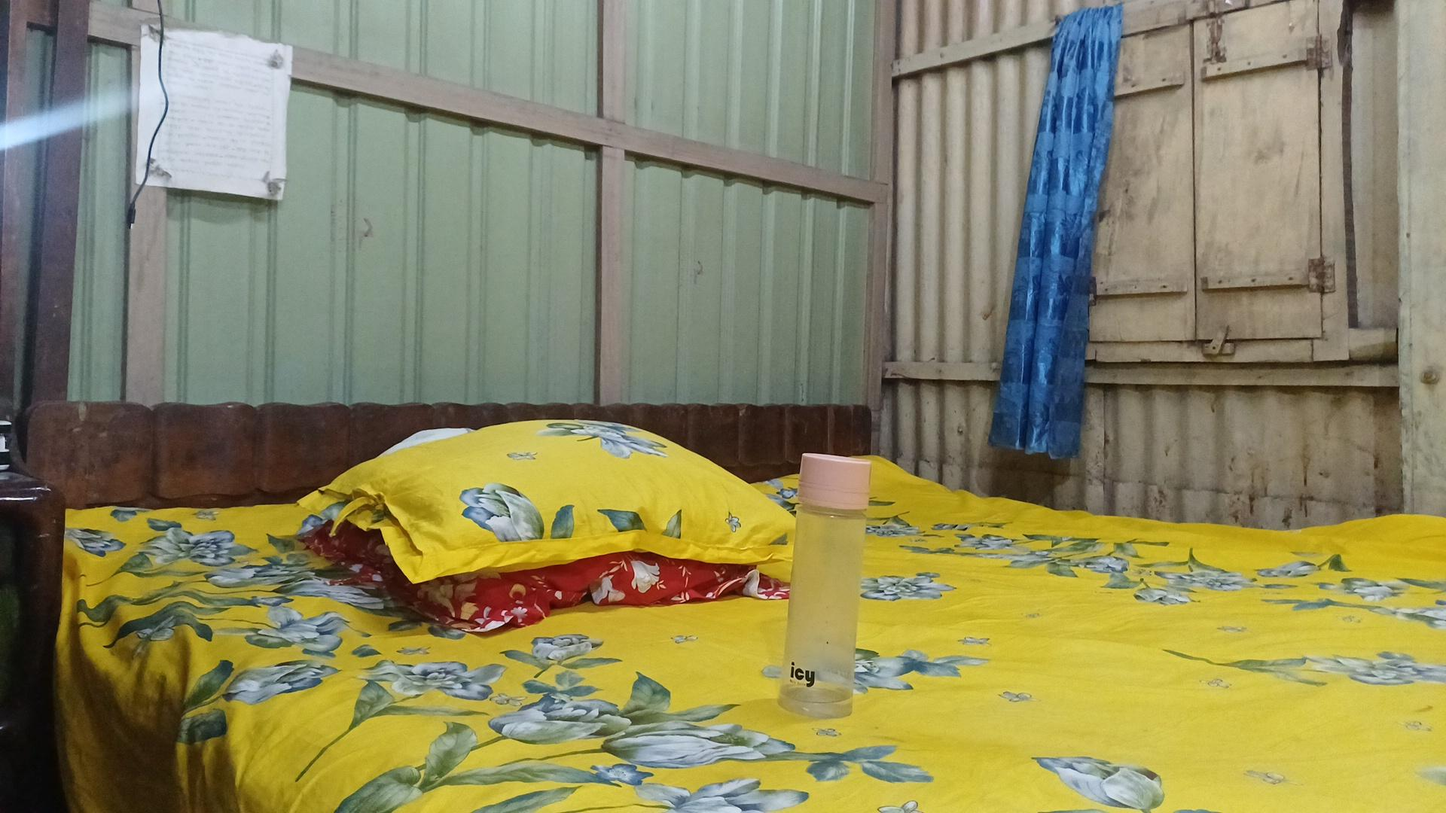Bottle: (768, 440, 876, 710)
Pillow: (283, 430, 788, 608)
Window: (1046, 13, 1387, 378)
